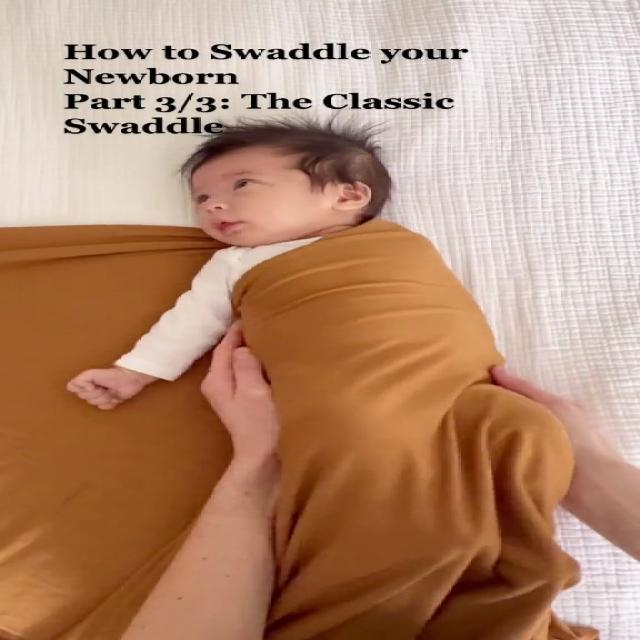baby: (51, 116, 594, 618)
